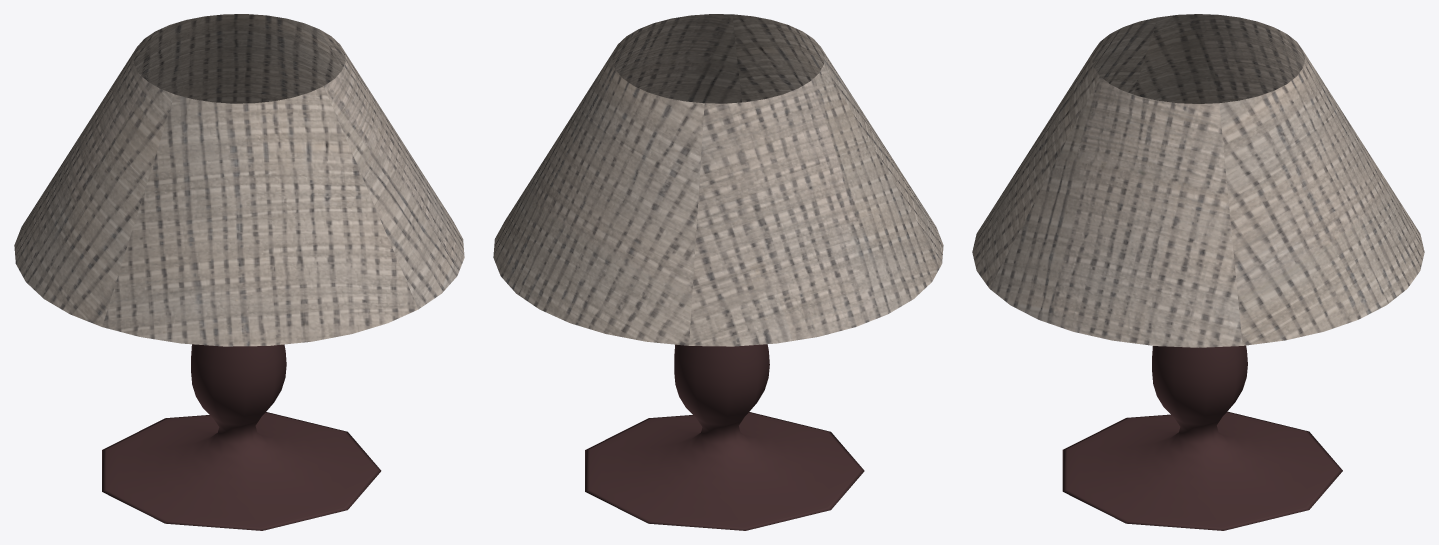
Rendered from lamp.fbx.
The picture shows the model from 3 angles, left to right: view 1: azimuth 30°, elevation 25°; view 2: azimuth 150°, elevation 25°; view 3: azimuth 270°, elevation 25°; orthographic projection.
Parts seen in each view (by area): view 1: Cylinder, BezierCurve; view 2: Cylinder, BezierCurve; view 3: Cylinder, BezierCurve.
Boxes of the visible parts, x1=… form: Cylinder: x1=14, y1=14, x2=464, y2=346; BezierCurve: x1=102, y1=344, x2=381, y2=530; Cylinder: x1=493, y1=14, x2=943, y2=346; BezierCurve: x1=585, y1=344, x2=864, y2=530; Cylinder: x1=972, y1=14, x2=1424, y2=347; BezierCurve: x1=1062, y1=345, x2=1342, y2=530.
Size of the model in its own units: 424 by 429 by 424.
2 materials, 1 textured.
